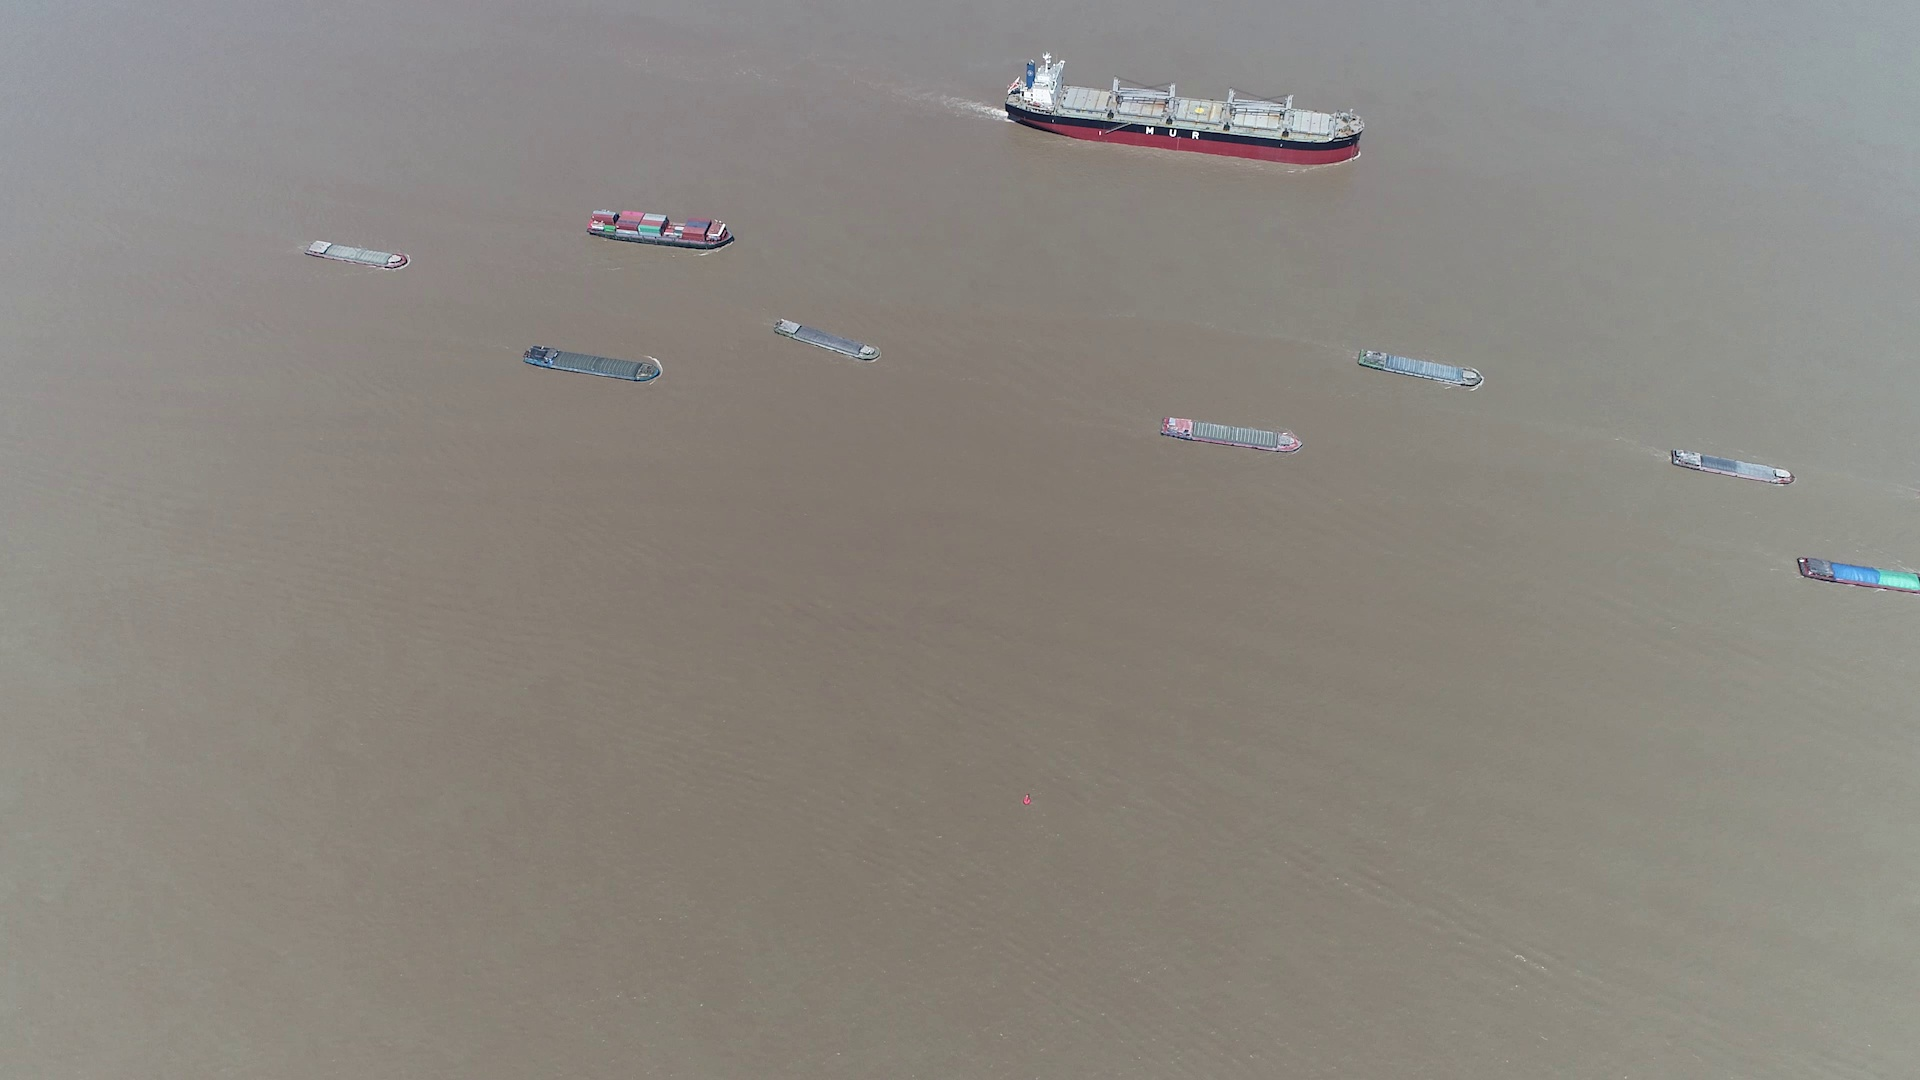ship: (1004, 59, 1364, 160), (585, 207, 738, 249), (1356, 347, 1484, 392), (1667, 444, 1796, 487), (1160, 415, 1302, 454), (522, 347, 659, 384), (1795, 554, 1919, 593), (773, 319, 882, 363), (305, 239, 410, 268)
